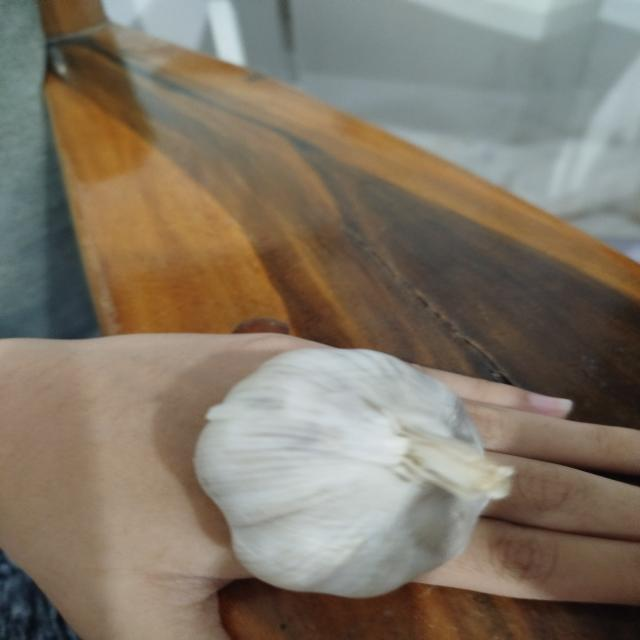garlic: (191, 346, 516, 599)
